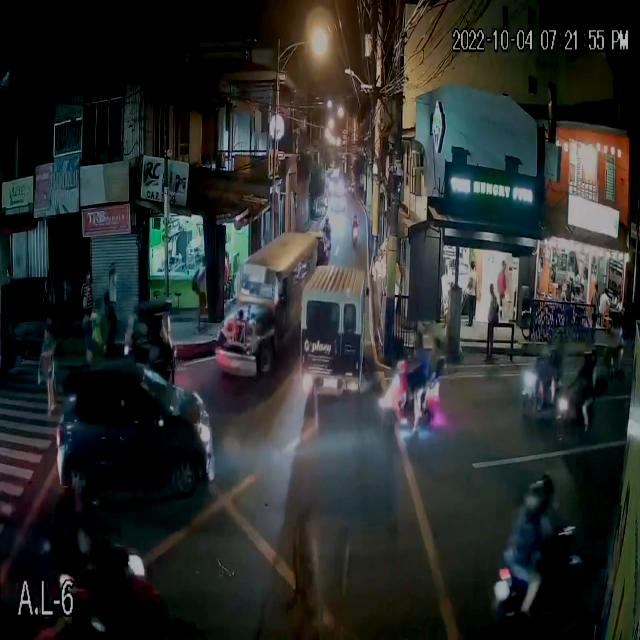Full-Faced: (73, 489, 97, 523), (58, 470, 78, 507)
